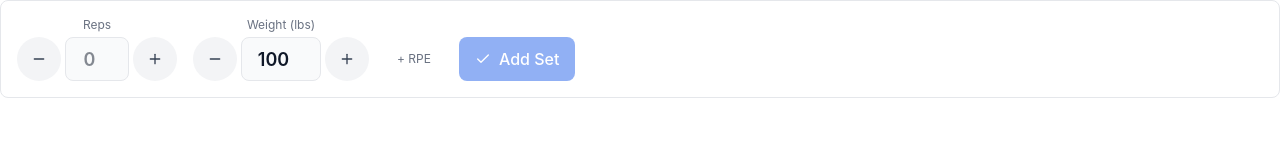
SetInput › should increment weight by 5 when using lbs
Expected: the text "Weight (lbs)" is shown, top-left (247, 17), bottom-right (315, 33)
Click the button named "Increase weight".
click(347, 59)  # box top-left (325, 37), bottom-right (369, 81)
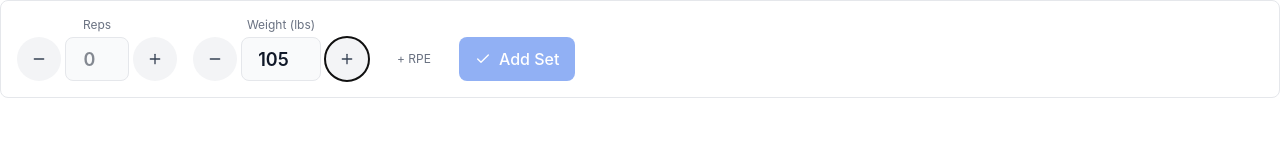
Result: the number field named "Weight" holds "105" at top-left (241, 37), bottom-right (321, 81)
